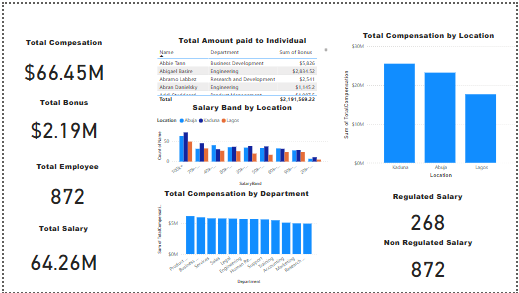

This screenshot's page, from the dashboard's own definition file:
{"tool":"powerbi","page":{"name":"Page 2","canvas":[1280,720],"ordinal":1},"visuals":[{"type":"card","title":"Total Compesation","fields":{"Values":["Sum(Palmoria Group emp-data.TotalCompensation)"]},"box":[10,82.5,280,135],"z":0},{"type":"card","title":"Total Bonus","fields":{"Values":["Sum(Palmoria Group emp-data.Bonus)"]},"box":[10,232.5,280,127.5],"z":1000},{"type":"tableEx","title":"Total Amount paid to Individual","fields":{"Values":["Palmoria Group emp-data.Name","Palmoria Group emp-data.Department","Sum(Palmoria Group emp-data.Bonus)"]},"box":[378.3,78.3,436.7,175],"z":2000},{"type":"clusteredColumnChart","title":"Total Compensation by Location","fields":{"Y":["Sum(Palmoria Group emp-data.TotalCompensation)"],"Category":["Palmoria Group emp-data.Location"]},"box":[842.5,65,437.5,375],"z":3000},{"type":"card","title":"Total Employee","fields":{"Values":["CountNonNull(Palmoria Group emp-data.Name)"]},"box":[10,392.5,297.5,135],"z":4000},{"type":"columnChart","title":"Total Compensation by Department","fields":{"Y":["Sum(Palmoria Group emp-data.TotalCompensation)"],"Category":["Palmoria Group emp-data.Department"]},"box":[377.5,460,407.5,245],"z":5000},{"type":"card","title":"Total Salary","fields":{"Values":["Sum(Palmoria Group emp-data.Salary)"]},"box":[22.5,547.5,252.5,155],"z":6000},{"type":"card","title":"Regulated Salary","fields":{"Values":["CountNonNull(Palmoria Group emp-data.Salary)"]},"box":[916.7,468.3,283.3,115],"z":7000},{"type":"card","title":"Non Regulated Salary","fields":{"Values":["CountNonNull(Palmoria Group emp-data.Salary)"]},"box":[920,583.3,280,120],"z":8000},{"type":"clusteredColumnChart","title":"Salary Band by Location","fields":{"Category":["Palmoria Group emp-data.SalaryBand"],"Y":["CountNonNull(Palmoria Group emp-data.Name)"],"Series":["Palmoria Group emp-data.Location"]},"box":[378.3,245,436.7,215],"z":9000}]}

Visuals, with their boxes in screenshot pixels (x1, y1, x2, y2), scaled from the page's 1280x720 canvas onto the 519x293 screenshot:
"Total Compesation" card: box=[4, 34, 118, 89]
"Total Bonus" card: box=[4, 95, 118, 146]
"Total Amount paid to Individual" tableEx: box=[153, 32, 330, 103]
"Total Compensation by Location" clusteredColumnChart: box=[342, 26, 518, 179]
"Total Employee" card: box=[4, 160, 125, 215]
"Total Compensation by Department" columnChart: box=[153, 187, 318, 287]
"Total Salary" card: box=[9, 223, 112, 286]
"Regulated Salary" card: box=[372, 191, 487, 237]
"Non Regulated Salary" card: box=[373, 237, 487, 286]
"Salary Band by Location" clusteredColumnChart: box=[153, 100, 330, 187]
